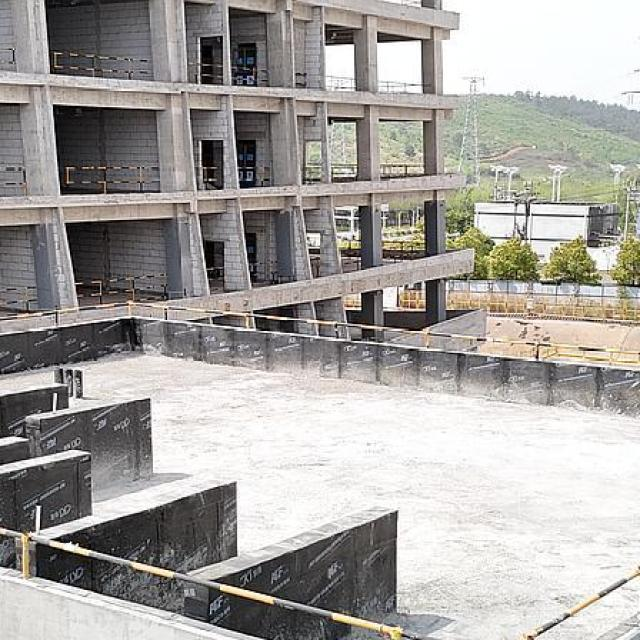edge_guardrail: (1, 522, 436, 638), (0, 299, 640, 366), (521, 561, 639, 638), (52, 49, 152, 81), (65, 163, 161, 194), (75, 273, 169, 301), (1, 284, 38, 312), (0, 163, 27, 196), (237, 164, 270, 186), (248, 260, 278, 281), (232, 65, 268, 82), (188, 62, 222, 78), (325, 75, 356, 92), (195, 164, 224, 182), (381, 163, 426, 174), (330, 164, 357, 182), (378, 79, 408, 94), (381, 240, 426, 250), (206, 266, 225, 281), (309, 257, 321, 276), (295, 72, 308, 87), (344, 260, 359, 270)
